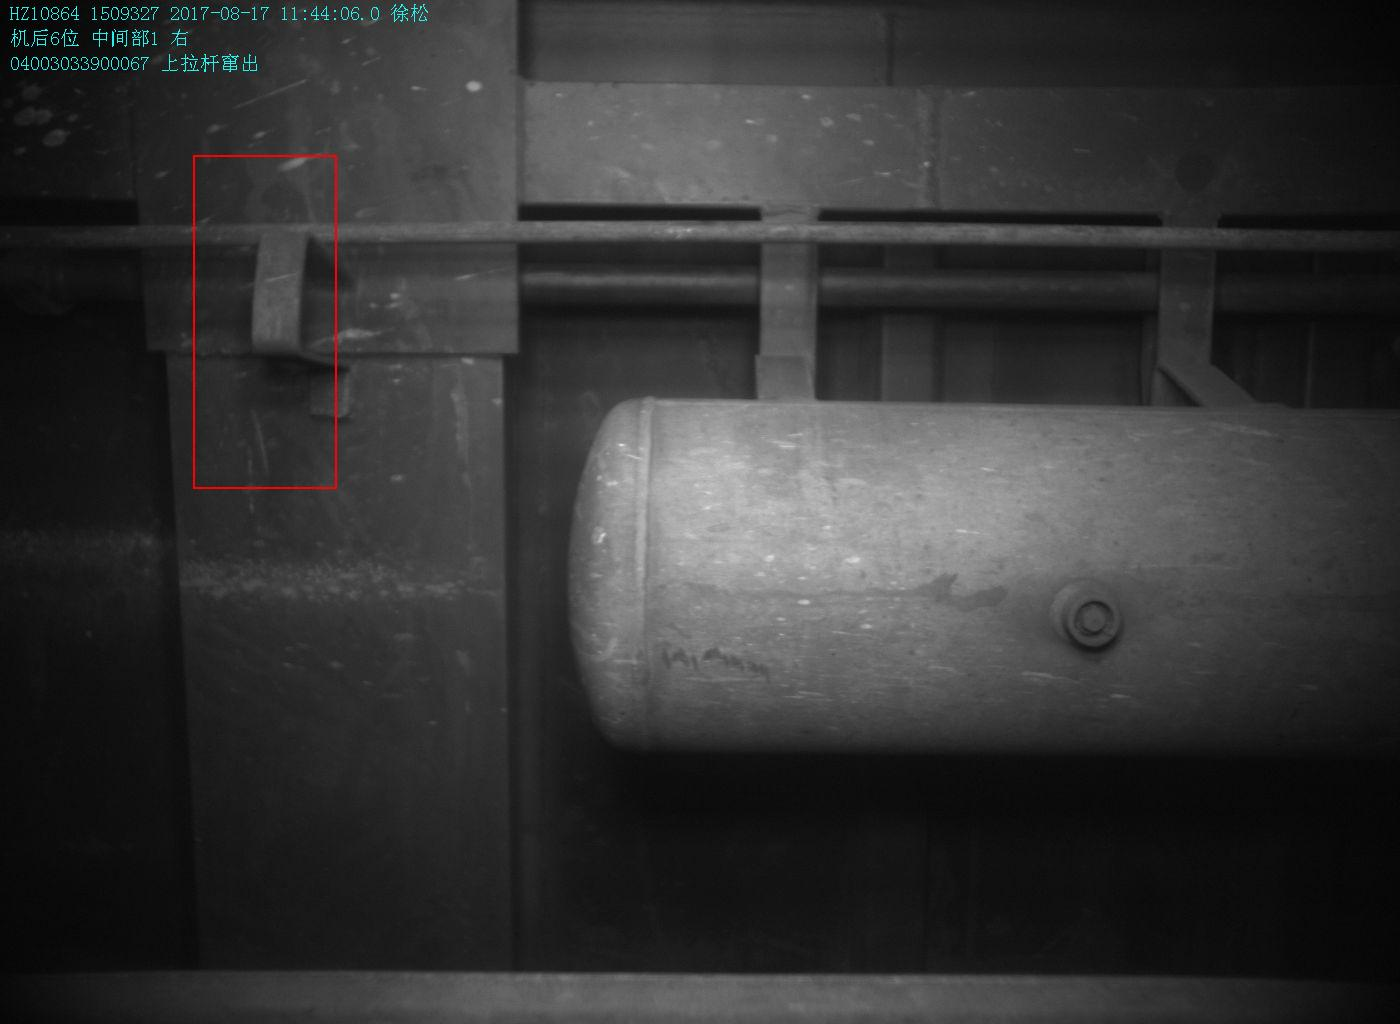Upper lever: (250, 222, 349, 419)
